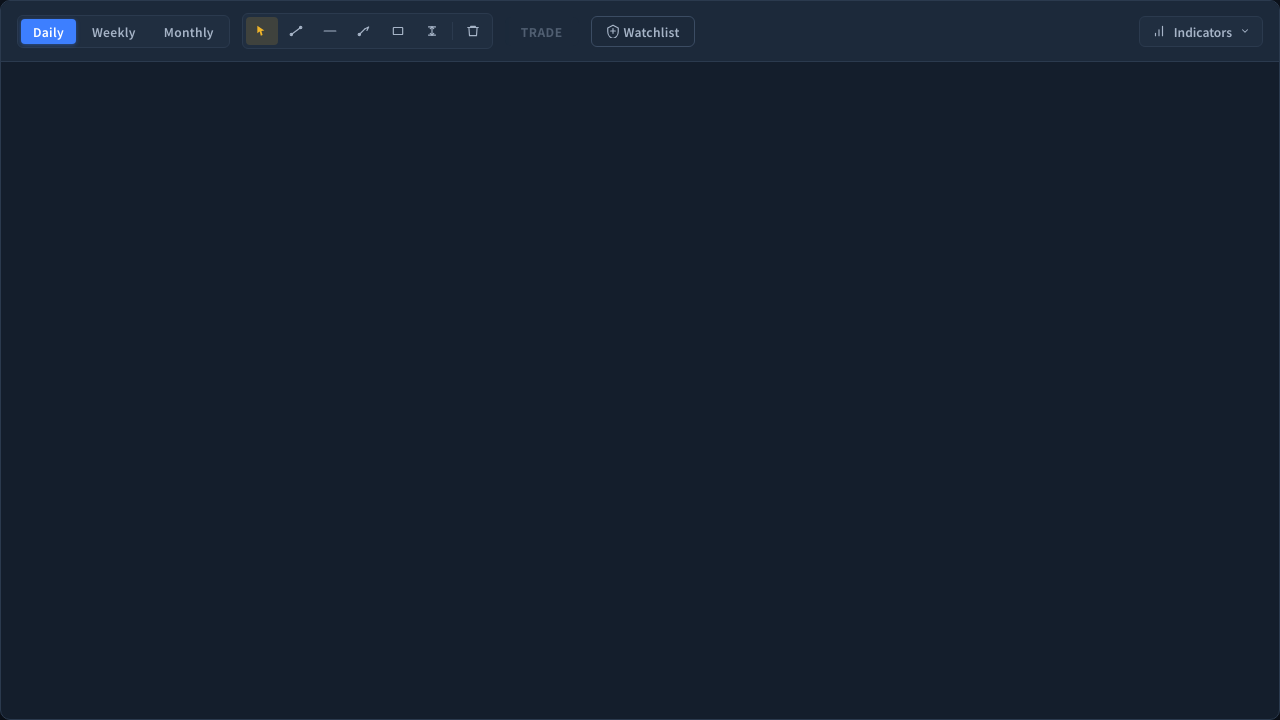
Test: StockChart indicators › migrates the old double-bottom visibility preference
Click the button "Indicators": point(1201, 31) [1139,16,1263,46]
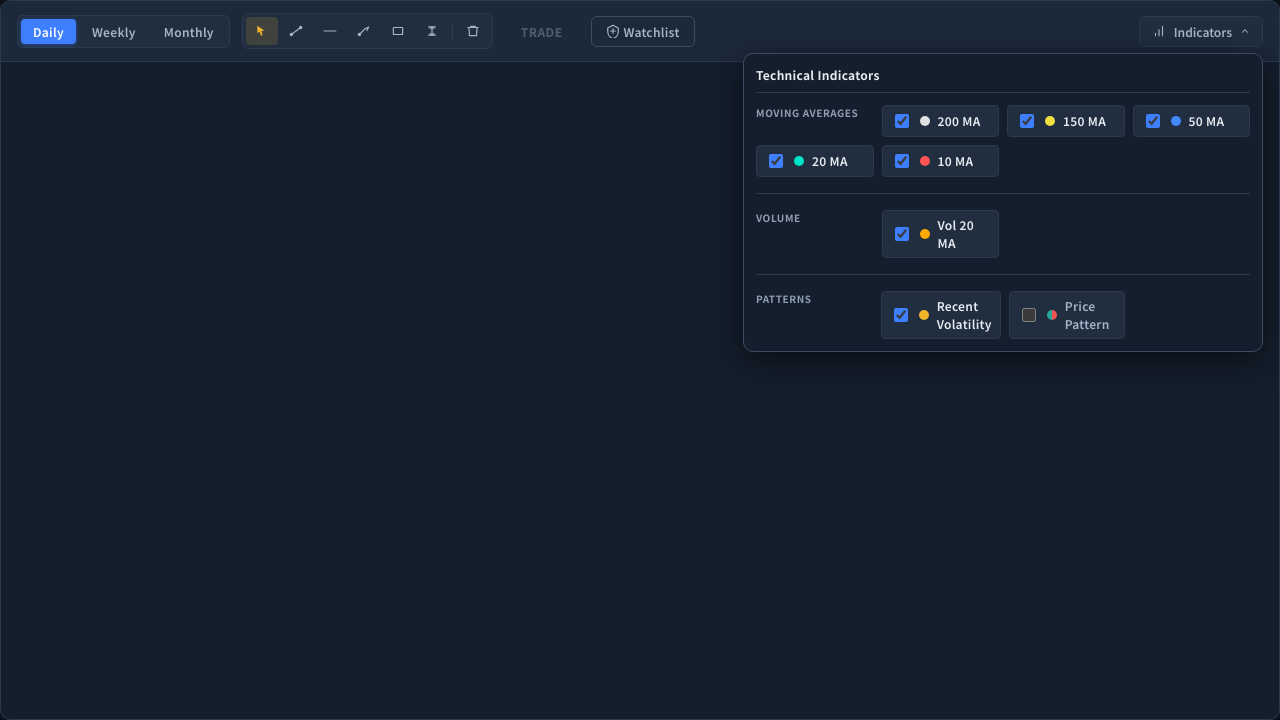
Expected: the checkbox labelled "Price Pattern" is not checked, [1022,308,1036,322]
